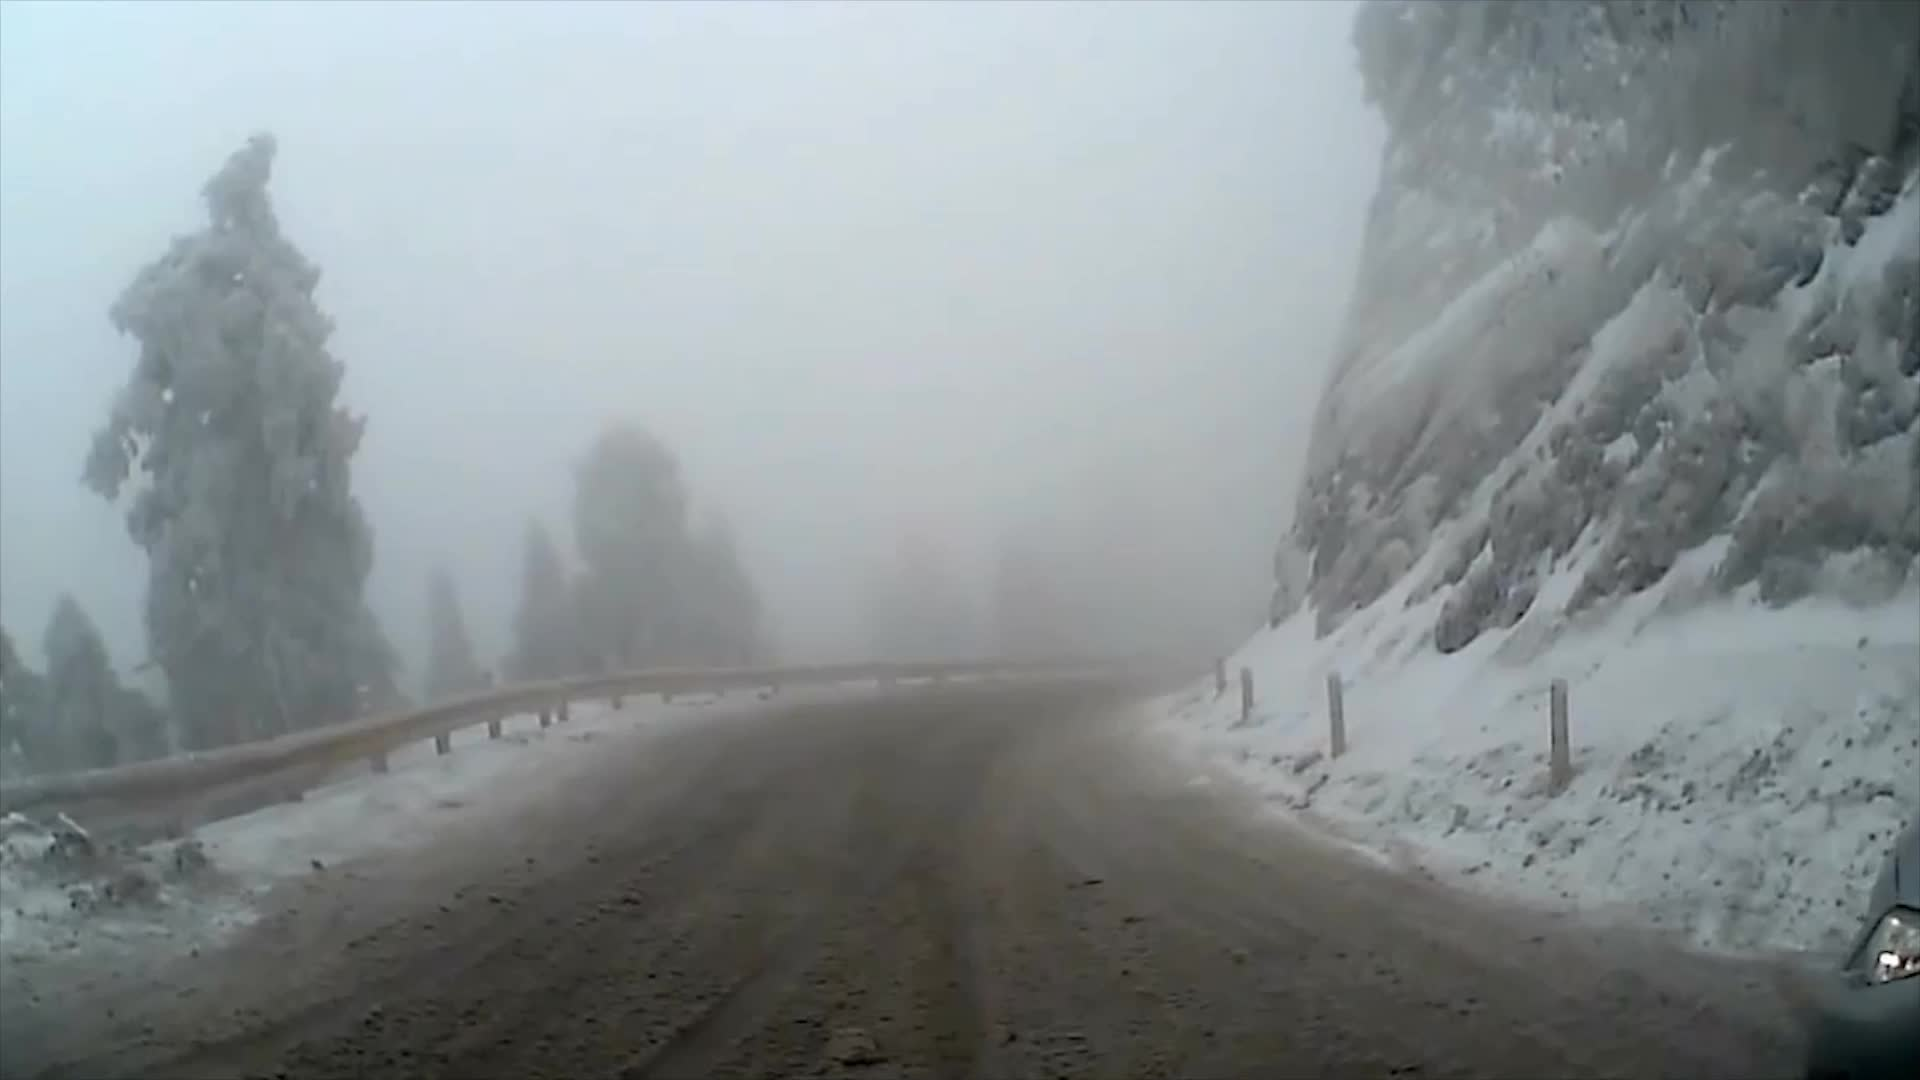vehicle: (1803, 814, 1919, 1079)
